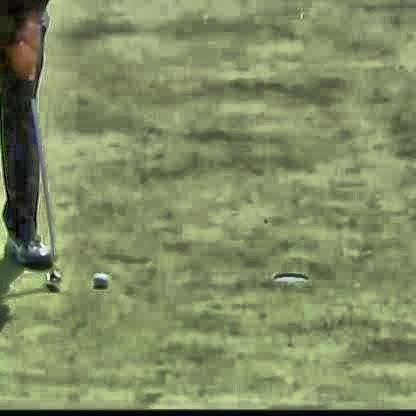golfball: (89, 272, 108, 285)
